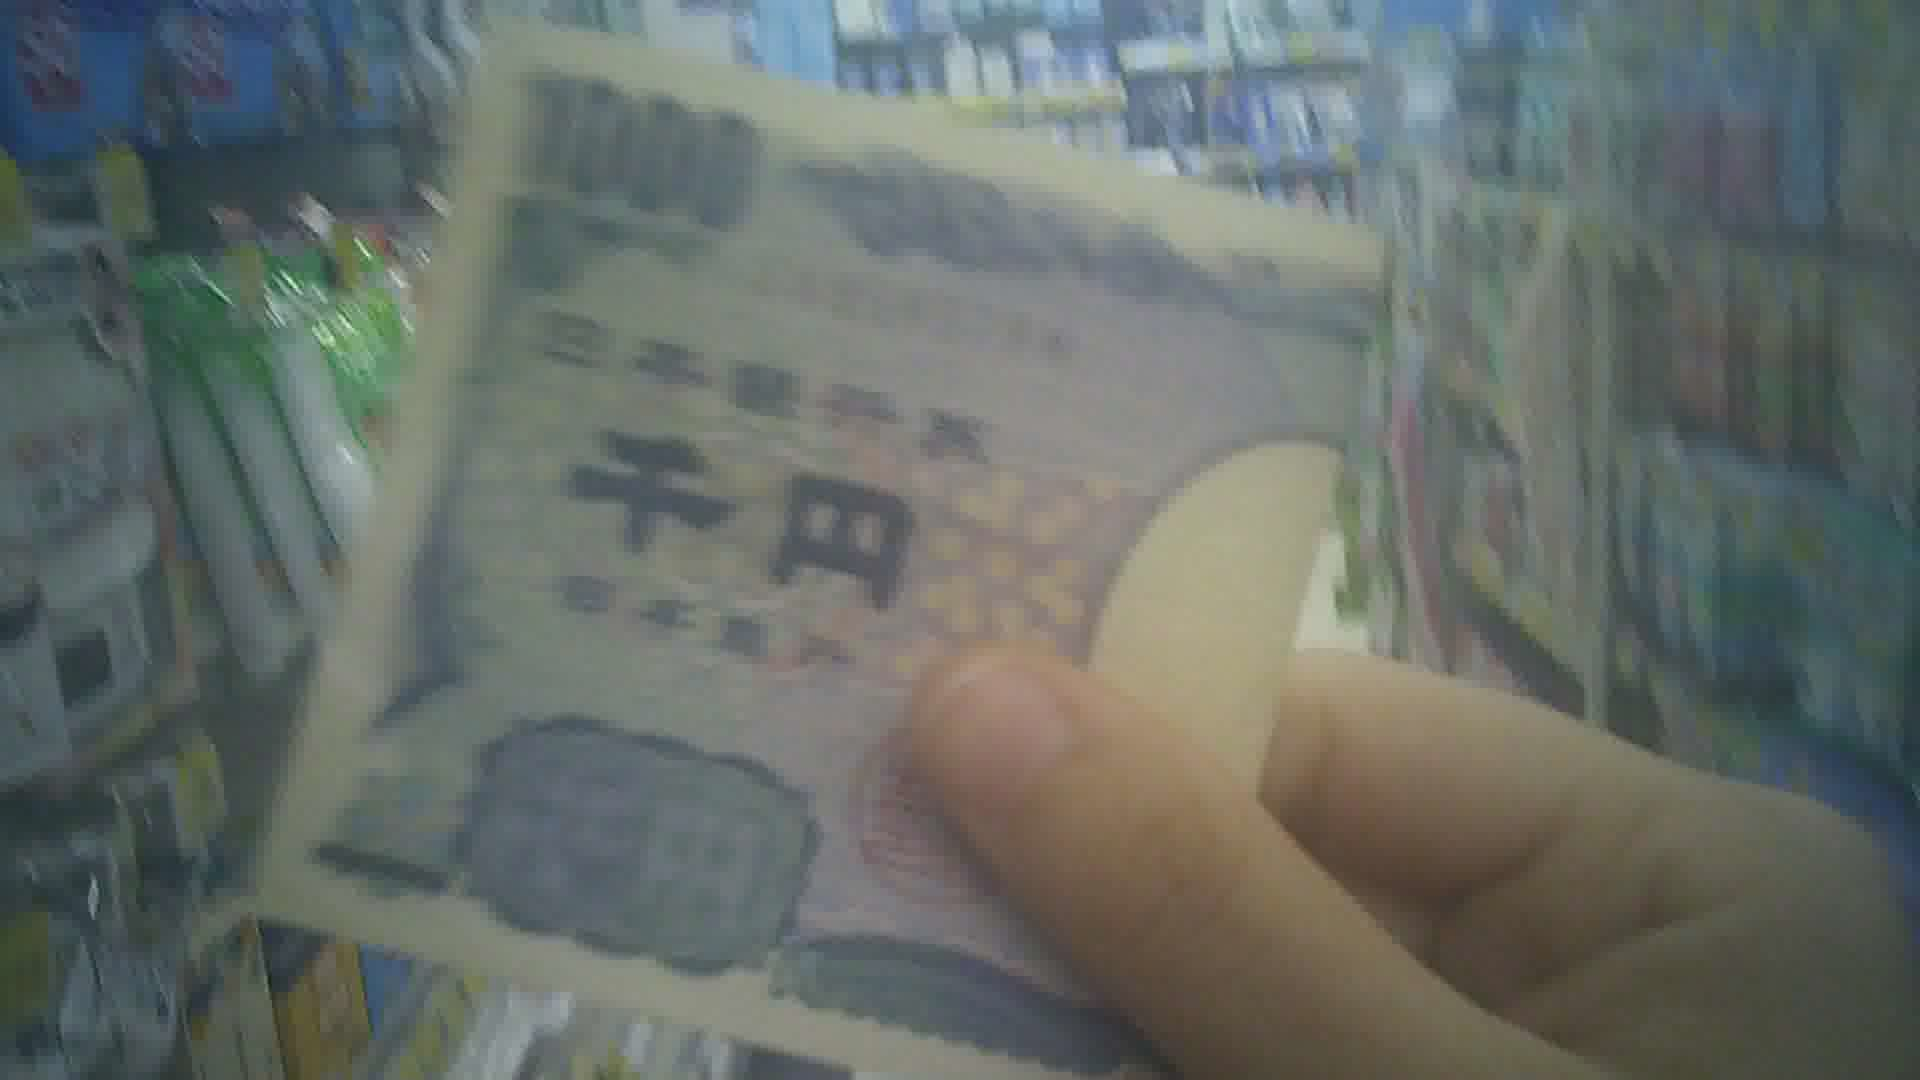1,000 Yen: (274, 15, 1402, 1060)
